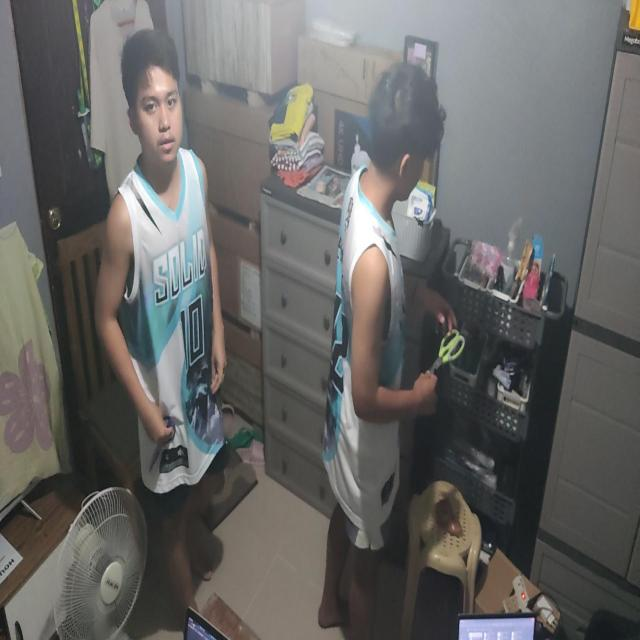scissor: (423, 328, 465, 386), (147, 413, 175, 472)
